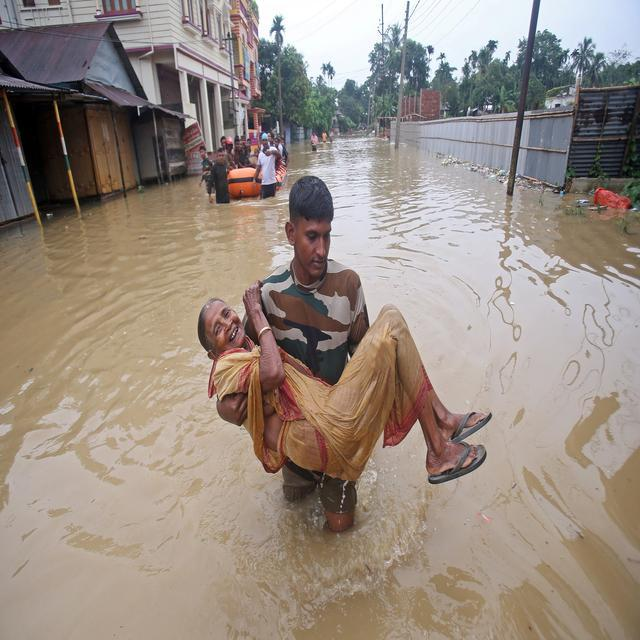Person-RiskLevel2: (193, 162, 502, 548), (195, 134, 288, 201)
